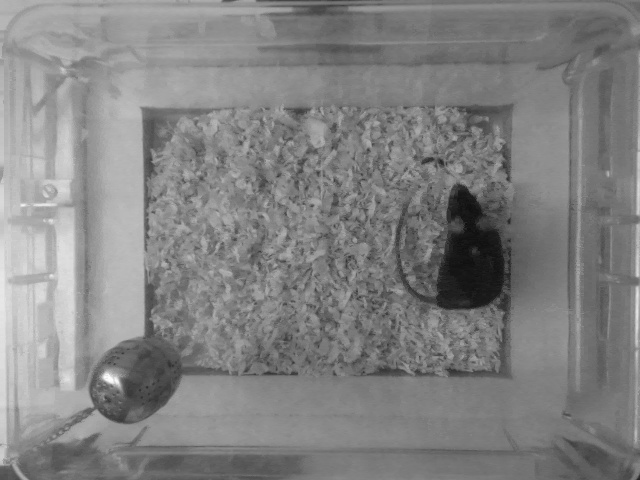mice: (393, 176, 507, 309)
